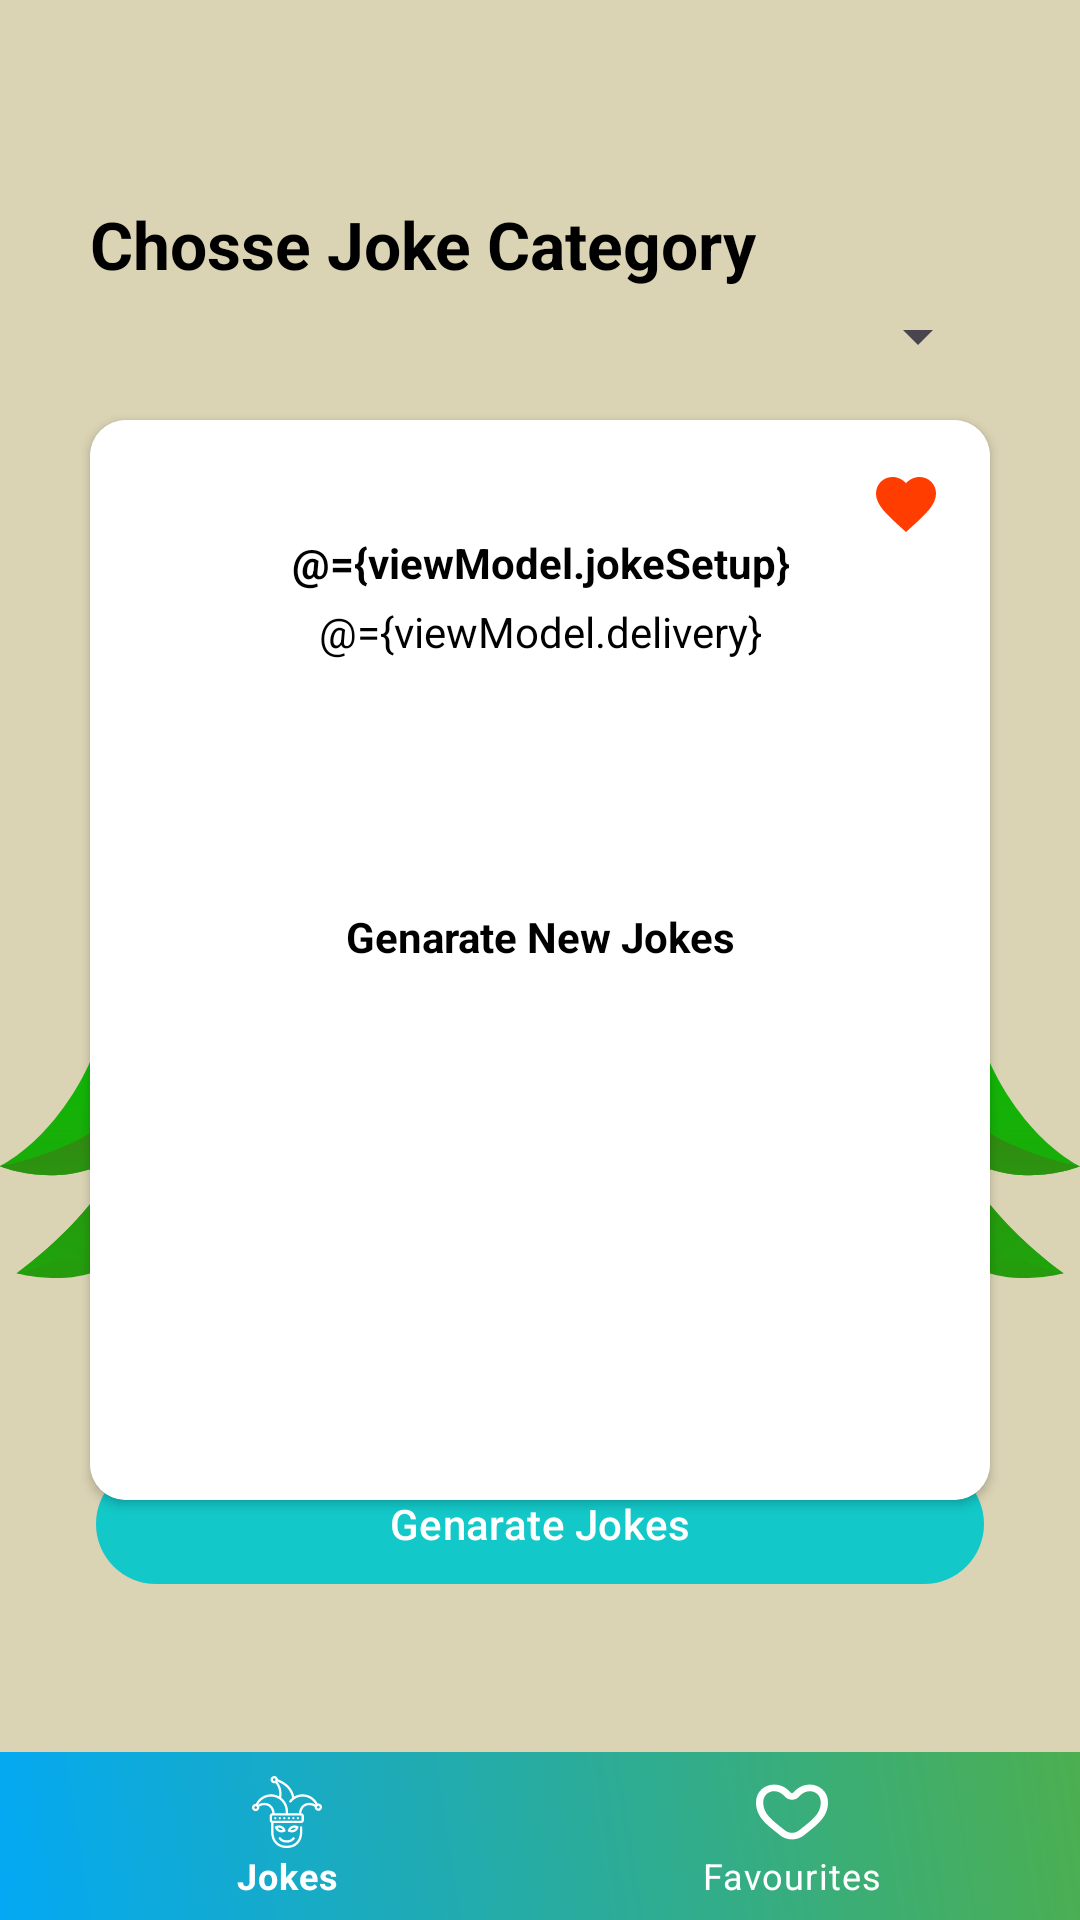

Screen size 1080 x 1920. Icon name, then its center in pixels as [x,y]:
favorite: [906,504]
